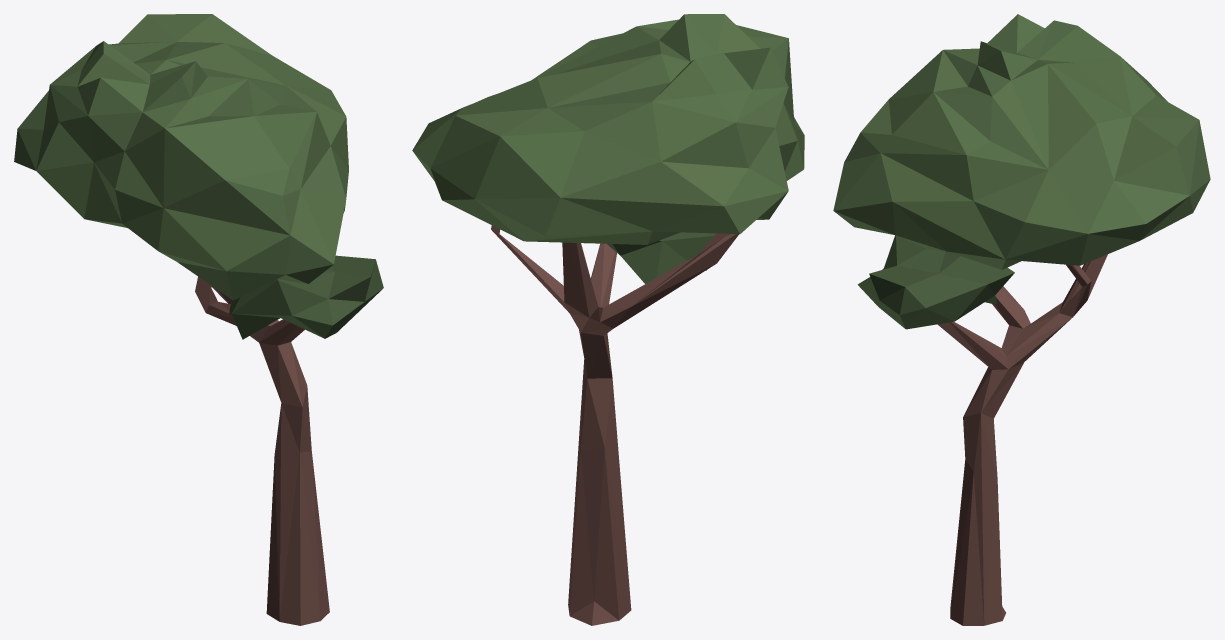
File: CommonTree_4.lod2.glb
3 renders of one model, left to right at view 1: azimuth 30°, elevation 25°; view 2: azimuth 150°, elevation 25°; view 3: azimuth 270°, elevation 25°, orthographic. The views are drawn at different scales.
Visible parts, largest first — view 1: CommonTree_4; view 2: CommonTree_4; view 3: CommonTree_4.
Boxes of the visible parts, x1,y1,x2,y2 form: CommonTree_4: [14, 14, 383, 625]; CommonTree_4: [412, 14, 804, 625]; CommonTree_4: [833, 14, 1210, 625].
Size of the model in its own units: 1.58 by 2.78 by 1.8.
